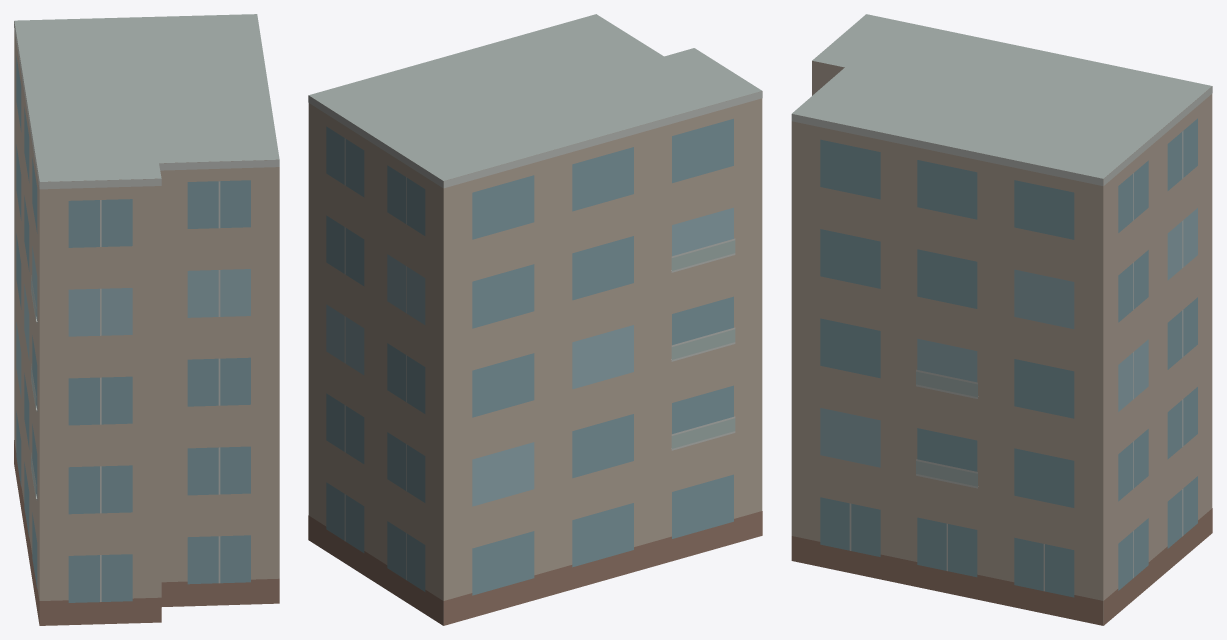
File: survey-upis-32533654.glb
3 views of the same model, side by side, from view 1: azimuth 30°, elevation 25°; view 2: azimuth 150°, elevation 25°; view 3: azimuth 270°, elevation 25° (orthographic).
Parts seen in each view (by area): view 1: survey-upis-32533654.tmp; view 2: survey-upis-32533654.tmp; view 3: survey-upis-32533654.tmp.
Part boxes in pixels (x1,y1,x2,y2): survey-upis-32533654.tmp: (14,14,279,625); survey-upis-32533654.tmp: (308,14,762,625); survey-upis-32533654.tmp: (791,14,1212,625).
Size of the model in its own units: 11.63 by 14.7 by 12.55.
